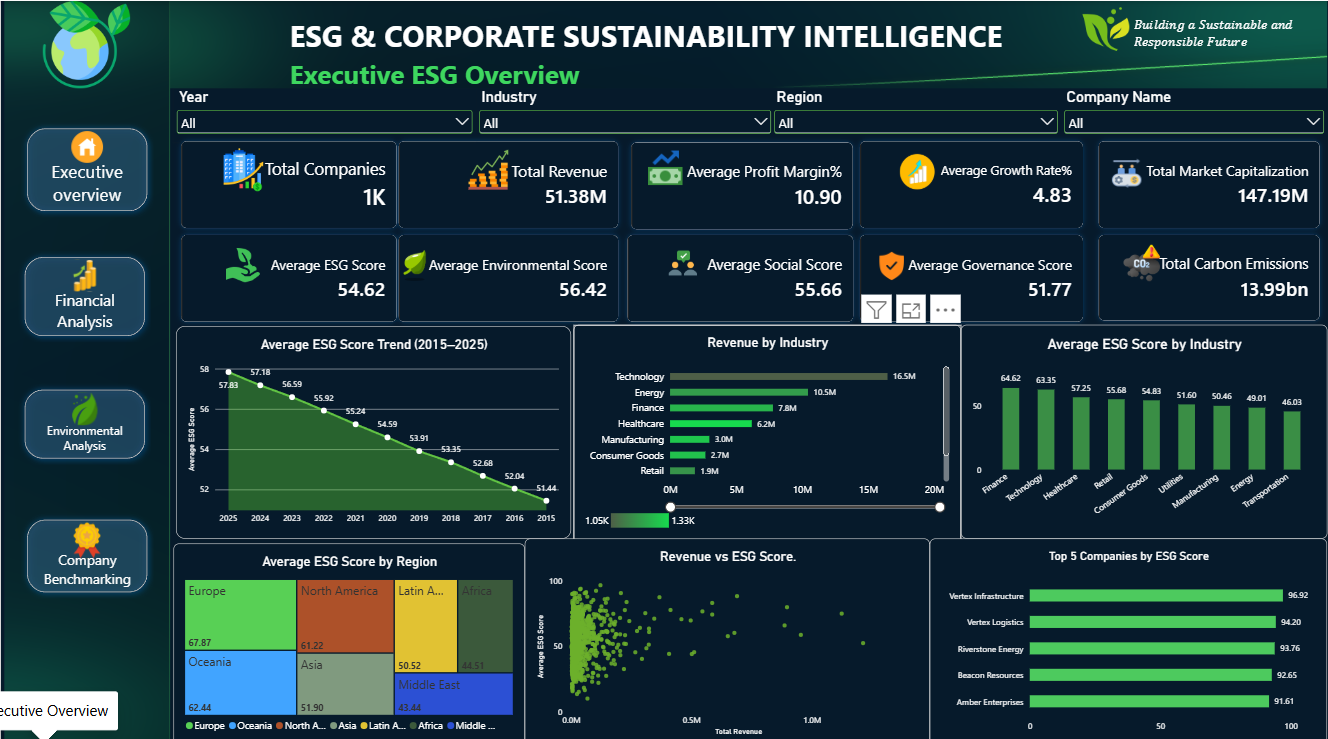

The dashboard page shown, as its layout file describes it:
{"tool":"powerbi","page":{"name":"Executive Overview","canvas":[1920,1080],"ordinal":0},"visuals":[{"type":"actionButton","box":[52.5,168.3,135.7,144.8],"z":0},{"type":"image","box":[130.3,0,1789.8,126.7],"z":1000},{"type":"textbox","box":[418,19.9,1058.7,79.6],"z":2000},{"type":"textbox","box":[418,79.6,428.9,65.1],"z":3000},{"type":"image","box":[0,0,249.7,1080.4],"z":4000},{"type":"image","box":[59.7,0,128.5,126.7],"z":5000},{"type":"actionButton","box":[29,175.5,191.8,137.5],"z":6000},{"type":"actionButton","box":[25.3,361.9,191.8,132.1],"z":7000},{"type":"actionButton","box":[25.3,553.8,191.8,117.6],"z":8000},{"type":"actionButton","box":[29,742,191.8,123.1],"z":9000},{"type":"textbox","box":[1639.6,19.9,240.7,59.7],"z":10000},{"type":"image","box":[1559.9,9,79.6,63.3],"z":11000},{"type":"cardVisual","fields":{"Data":["ESG_Company_Data.Total Companies"]},"box":[249.7,191.8,334.8,148.4],"z":12000},{"type":"image","box":[318.5,206.3,65.1,76],"z":13000},{"type":"cardVisual","fields":{"Data":["ESG_Company_Data.Total Revenue"]},"box":[564.6,191.8,340.2,148.4],"z":14000},{"type":"image","box":[676.8,209.9,57.9,68.8],"z":15000},{"type":"cardVisual","fields":{"Data":["ESG_Company_Data.Average Profit Margin"]},"box":[901.2,193.6,343.8,148.4],"z":16000},{"type":"image","box":[908.4,209.9,106.8,63.3],"z":17000},{"type":"cardVisual","fields":{"Data":["ESG_Company_Data.Average Growth Rate"]},"box":[1232.4,191.8,345.6,148.4],"z":18000},{"type":"image","box":[1281.2,220.8,90.5,52.5],"z":19000},{"type":"cardVisual","fields":{"Data":["ESG_Company_Data.Total Market Capitalization"]},"box":[1578,191.8,342,148.4],"z":20000},{"type":"image","box":[1578,226.2,103.2,45.2],"z":21000},{"type":"cardVisual","fields":{"Data":["ESG_Company_Data.Average ESG Score"]},"box":[249.7,327.5,334.8,148.4],"z":22000},{"type":"image","box":[313.1,352.9,74.2,59.7],"z":23000},{"type":"cardVisual","fields":{"Data":["ESG_Company_Data.Average Environmental Score"]},"box":[564.6,327.5,340.2,148.4],"z":24000},{"type":"image","box":[551.9,356.5,94.1,48.9],"z":25000},{"type":"cardVisual","fields":{"Data":["ESG_Company_Data.Average Social Score"]},"box":[895.8,327.5,349.3,148.4],"z":26000},{"type":"image","box":[959.1,356.5,56.1,45.2],"z":27000},{"type":"cardVisual","fields":{"Data":["ESG_Company_Data.Average Governance Score"]},"box":[1232.4,327.5,345.6,148.4],"z":28000},{"type":"image","box":[1245,361.9,88.7,43.4],"z":29000},{"type":"cardVisual","fields":{"Data":["ESG_Company_Data.Total Carbon Emissions"]},"box":[1578,327.5,342,146.6],"z":30000},{"type":"image","box":[1625.1,352.9,52.5,52.5],"z":31000},{"type":"slicer","fields":{"Values":["Year_Dimension.Year"]},"box":[249.7,126.7,437.9,77.8],"z":32000},{"type":"slicer","fields":{"Values":["ESG_Company_Data.Region"]},"box":[1114.8,126.7,419.8,72.4],"z":33000},{"type":"slicer","fields":{"Values":["ESG_Company_Data.Industry"]},"box":[687.7,126.7,432.5,76],"z":34000},{"type":"slicer","fields":{"Values":["ESG_Company_Data.Company Name"]},"box":[1534.6,126.7,385.5,67],"z":35000},{"type":"lineChart","title":"Average ESG Score Trend (2015–2025)","fields":{"Category":["Year_Dimension.Year"],"Y":["ESG_Company_Data.Average ESG Score"]},"box":[253.4,470.5,571.9,307.6],"z":36000},{"type":"clusteredBarChart","title":"Revenue by Industry","fields":{"Category":["ESG_Company_Data.Industry"],"Y":["ESG_Company_Data.Total Revenue"]},"box":[828.8,468.7,561,316.7],"z":37000},{"type":"clusteredColumnChart","title":"Average ESG Score by Industry","fields":{"Category":["ESG_Company_Data.Industry"],"Y":["ESG_Company_Data.Average ESG Score"]},"box":[1389.8,468.7,530.2,309.5],"z":38000},{"type":"treemap","title":"Average ESG Score by Region","fields":{"Group":["ESG_Company_Data.Region"],"Values":["ESG_Company_Data.Average ESG Score"]},"box":[249.7,785.4,508.5,295],"z":39000},{"type":"scatterChart","title":"Revenue vs ESG Score.","fields":{"Category":["ESG_Company_Data.Company Name"],"X":["ESG_Company_Data.Total Revenue"],"Y":["ESG_Company_Data.Average ESG Score"]},"box":[758.2,778.2,586.3,302.2],"z":40000},{"type":"clusteredBarChart","title":"Top 5 Companies by ESG Score","fields":{"Category":["ESG_Company_Data.Company Name"],"Y":["ESG_Company_Data.Average ESG Score"]},"box":[1344.6,778.2,575.5,302.2],"z":41000}]}

Visuals, with their boxes on the page's 1920x1080 design canvas (x1, y1, x2, y2). These are canvas units, not pixel positions in the 1328x739 screenshot, which may show the page scaled, cropped or inside an application window:
actionButton: select_region(52, 168, 188, 313)
image: select_region(130, 0, 1920, 127)
textbox: select_region(418, 20, 1477, 100)
textbox: select_region(418, 80, 847, 145)
image: select_region(0, 0, 250, 1080)
image: select_region(60, 0, 188, 127)
actionButton: select_region(29, 176, 221, 313)
actionButton: select_region(25, 362, 217, 494)
actionButton: select_region(25, 554, 217, 671)
actionButton: select_region(29, 742, 221, 865)
textbox: select_region(1640, 20, 1880, 80)
image: select_region(1560, 9, 1640, 72)
cardVisual - ESG_Company_Data.Total Companies: select_region(250, 192, 584, 340)
image: select_region(318, 206, 384, 282)
cardVisual - ESG_Company_Data.Total Revenue: select_region(565, 192, 905, 340)
image: select_region(677, 210, 735, 279)
cardVisual - ESG_Company_Data.Average Profit Margin: select_region(901, 194, 1245, 342)
image: select_region(908, 210, 1015, 273)
cardVisual - ESG_Company_Data.Average Growth Rate: select_region(1232, 192, 1578, 340)
image: select_region(1281, 221, 1372, 273)
cardVisual - ESG_Company_Data.Total Market Capitalization: select_region(1578, 192, 1920, 340)
image: select_region(1578, 226, 1681, 271)
cardVisual - ESG_Company_Data.Average ESG Score: select_region(250, 328, 584, 476)
image: select_region(313, 353, 387, 413)
cardVisual - ESG_Company_Data.Average Environmental Score: select_region(565, 328, 905, 476)
image: select_region(552, 356, 646, 405)
cardVisual - ESG_Company_Data.Average Social Score: select_region(896, 328, 1245, 476)
image: select_region(959, 356, 1015, 402)
cardVisual - ESG_Company_Data.Average Governance Score: select_region(1232, 328, 1578, 476)
image: select_region(1245, 362, 1334, 405)
cardVisual - ESG_Company_Data.Total Carbon Emissions: select_region(1578, 328, 1920, 474)
image: select_region(1625, 353, 1678, 405)
slicer - Year_Dimension.Year: select_region(250, 127, 688, 204)
slicer - ESG_Company_Data.Region: select_region(1115, 127, 1535, 199)
slicer - ESG_Company_Data.Industry: select_region(688, 127, 1120, 203)
slicer - ESG_Company_Data.Company Name: select_region(1535, 127, 1920, 194)
"Average ESG Score Trend (2015–2025)" lineChart: select_region(253, 470, 825, 778)
"Revenue by Industry" clusteredBarChart: select_region(829, 469, 1390, 785)
"Average ESG Score by Industry" clusteredColumnChart: select_region(1390, 469, 1920, 778)
"Average ESG Score by Region" treemap: select_region(250, 785, 758, 1080)
"Revenue vs ESG Score." scatterChart: select_region(758, 778, 1344, 1080)
"Top 5 Companies by ESG Score" clusteredBarChart: select_region(1345, 778, 1920, 1080)
